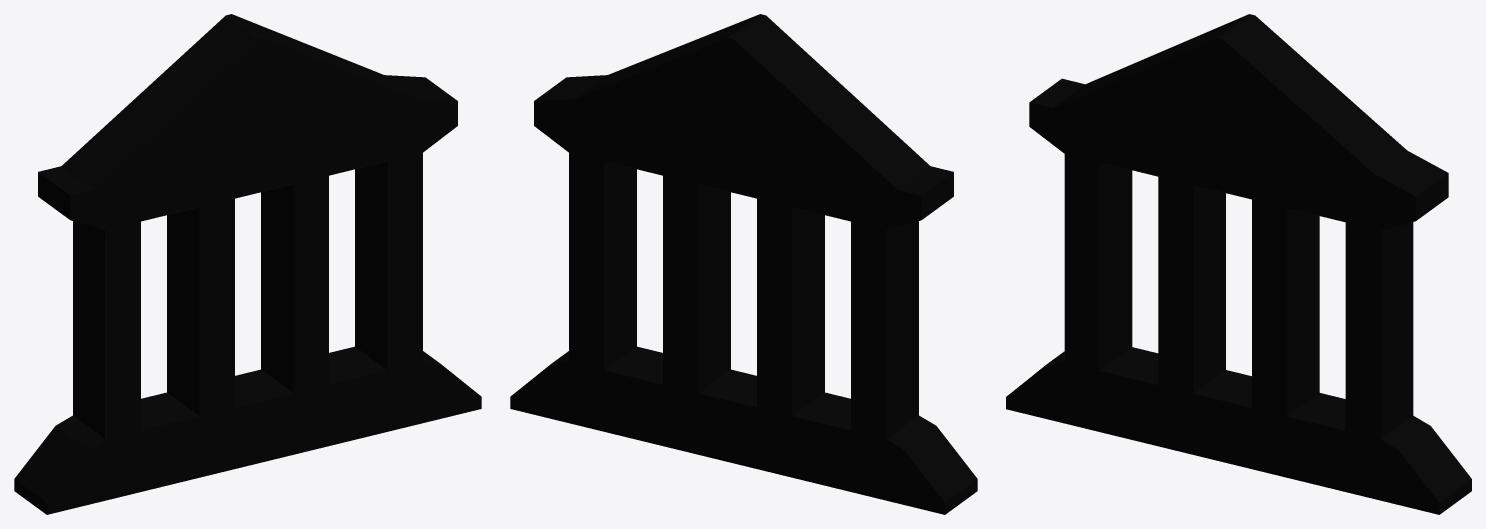
File: dezyne_3d-bank-261.glb
The picture shows the model from 3 angles, left to right: view 1: azimuth 30°, elevation 25°; view 2: azimuth 150°, elevation 25°; view 3: azimuth 330°, elevation 25°; orthographic projection.
Parts seen in each view (by area): view 1: node_id1050; view 2: node_id1050; view 3: node_id1050.
Part boxes in pixels (x1=…): node_id1050: x1=14, y1=14, x2=481, y2=514; node_id1050: x1=510, y1=14, x2=977, y2=514; node_id1050: x1=1006, y1=14, x2=1471, y2=514.
Bounding box in the file's own units: 0.512 × 0.4774 × 0.0664.
Materials: 1 (1 with a texture image).
